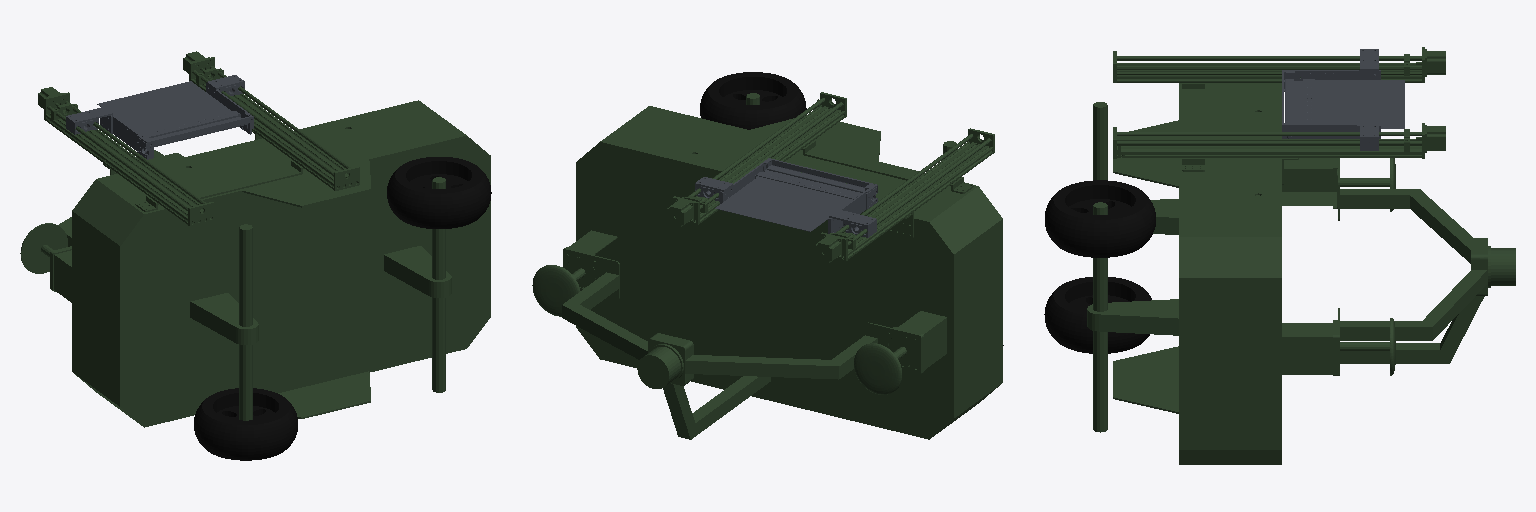
The robot description file, URDF, robot "00_all_20240516.SLDASM":
<?xml version="1.0" encoding="utf-8"?>
<!-- This URDF was automatically created by SolidWorks to URDF Exporter! Originally created by [author] ([email redacted]) 
     Commit Version: 1.6.0-4-g7f85cfe  Build Version: 1.6.7995.38578
     For more information, please see http://wiki.ros.org/sw_urdf_exporter -->
<robot
  name="00_all_20240516.SLDASM">
  <link
    name="base_link">
    <inertial>
      <origin
        xyz="-0.0019706202296848 0.495886382491066 0.00247624627925692"
        rpy="0 0 0" />
      <mass
        value="221.840208254302" />
      <inertia
        ixx="8.92015075465734"
        ixy="-0.00105260873786935"
        ixz="-9.01949150308231E-09"
        iyy="32.1946588327623"
        iyz="-0.000350461242846907"
        izz="26.0486633472126" />
    </inertial>
    <visual>
      <origin
        xyz="0 0 0"
        rpy="0 0 0" />
      <geometry>
        <mesh
          filename="./meshes/base_link.STL" />
      </geometry>
      <material
        name="">
        <color
          rgba="0.23921568627451 0.317647058823529 0.227450980392157 1" />
      </material>
    </visual>
    <collision>
      <origin
        xyz="0 0 0"
        rpy="0 0 0" />
      <geometry>
        <mesh
          filename="./meshes/base_link.STL" />
      </geometry>
    </collision>
  </link>
  <link
    name="front_left_wheel_Link">
    <inertial>
      <origin
        xyz="0 2.54252280290634E-06 2.77555756156289E-17"
        rpy="0 0 0" />
      <mass
        value="4.37453859516945" />
      <inertia
        ixx="0.0315351229841474"
        ixy="1.05126273604273E-09"
        ixz="1.2409798620344E-08"
        iyy="0.0565948463128113"
        iyz="-2.22752276467307E-09"
        izz="0.0315357461064697" />
    </inertial>
    <visual>
      <origin
        xyz="0 0 0"
        rpy="0 0 0" />
      <geometry>
        <mesh
          filename="./meshes/front_left_wheel_Link.STL" />
      </geometry>
      <material
        name="">
        <color
          rgba="0.0941176470588235 0.0941176470588235 0.0941176470588235 1" />
      </material>
    </visual>
    <collision>
      <origin
        xyz="0 0 0"
        rpy="0 0 0" />
      <geometry>
        <mesh
          filename="./meshes/front_left_wheel_Link.STL" />
      </geometry>
    </collision>
  </link>
  <joint
    name="front_left_wheel_joint"
    type="continuous">
    <origin
      xyz="0.3125 0.147 -0.285"
      rpy="-1.5708 0 0" />
    <parent
      link="base_link" />
    <child
      link="front_left_wheel_Link" />
    <axis
      xyz="0 1 0" />
  </joint>
  <link
    name="front_right_wheel_Link">
    <inertial>
      <origin
        xyz="-5.55111512312578E-17 2.54252280296186E-06 -2.77555756156289E-17"
        rpy="0 0 0" />
      <mass
        value="4.37453859516945" />
      <inertia
        ixx="0.0315351229841474"
        ixy="1.05126273584534E-09"
        ixz="1.24097986340553E-08"
        iyy="0.0565948463128113"
        iyz="-2.22752276613522E-09"
        izz="0.0315357461064697" />
    </inertial>
    <visual>
      <origin
        xyz="0 0 0"
        rpy="0 0 0" />
      <geometry>
        <mesh
          filename="./meshes/front_right_wheel_Link.STL" />
      </geometry>
      <material
        name="">
        <color
          rgba="0.0941176470588235 0.0941176470588235 0.0941176470588235 1" />
      </material>
    </visual>
    <collision>
      <origin
        xyz="0 0 0"
        rpy="0 0 0" />
      <geometry>
        <mesh
          filename="./meshes/front_right_wheel_Link.STL" />
      </geometry>
    </collision>
  </link>
  <joint
    name="front_right_wheel_joint"
    type="continuous">
    <origin
      xyz="0.3125 0.147 0.285"
      rpy="1.5708 0 0" />
    <parent
      link="base_link" />
    <child
      link="front_right_wheel_Link" />
    <axis
      xyz="0 1 0" />
  </joint>
  <link
    name="rear_left_wheel_Link">
    <inertial>
      <origin
        xyz="-1.11022302462516E-16 2.54252280290634E-06 5.55111512312578E-17"
        rpy="0 0 0" />
      <mass
        value="4.37453859516945" />
      <inertia
        ixx="0.0315351229841474"
        ixy="1.05126273589486E-09"
        ixz="1.24097986259142E-08"
        iyy="0.0565948463128113"
        iyz="-2.2275227603392E-09"
        izz="0.0315357461064697" />
    </inertial>
    <visual>
      <origin
        xyz="0 0 0"
        rpy="0 0 0" />
      <geometry>
        <mesh
          filename="./meshes/rear_left_wheel_Link.STL" />
      </geometry>
      <material
        name="">
        <color
          rgba="0.0941176470588235 0.0941176470588235 0.0941176470588235 1" />
      </material>
    </visual>
    <collision>
      <origin
        xyz="0 0 0"
        rpy="0 0 0" />
      <geometry>
        <mesh
          filename="./meshes/rear_left_wheel_Link.STL" />
      </geometry>
    </collision>
  </link>
  <joint
    name="rear_left_wheel_joint"
    type="continuous">
    <origin
      xyz="-0.3125 0.147 -0.285"
      rpy="-1.5708 0 0" />
    <parent
      link="base_link" />
    <child
      link="rear_left_wheel_Link" />
    <axis
      xyz="0 1 0" />
  </joint>
  <link
    name="rear_right_wheel_Link">
    <inertial>
      <origin
        xyz="-1.66533453693773E-16 2.54252280296186E-06 5.55111512312578E-17"
        rpy="0 0 0" />
      <mass
        value="4.37453859516945" />
      <inertia
        ixx="0.0315351229841474"
        ixy="1.05126273421006E-09"
        ixz="1.2409798640954E-08"
        iyy="0.0565948463128113"
        iyz="-2.22752276417782E-09"
        izz="0.0315357461064698" />
    </inertial>
    <visual>
      <origin
        xyz="0 0 0"
        rpy="0 0 0" />
      <geometry>
        <mesh
          filename="./meshes/rear_right_wheel_Link.STL" />
      </geometry>
      <material
        name="">
        <color
          rgba="0.0941176470588235 0.0941176470588235 0.0941176470588235 1" />
      </material>
    </visual>
    <collision>
      <origin
        xyz="0 0 0"
        rpy="0 0 0" />
      <geometry>
        <mesh
          filename="./meshes/rear_right_wheel_Link.STL" />
      </geometry>
    </collision>
  </link>
  <joint
    name="rear_right_wheel_joint"
    type="continuous">
    <origin
      xyz="-0.3125 0.147 0.285"
      rpy="1.5708 0 0" />
    <parent
      link="base_link" />
    <child
      link="rear_right_wheel_Link" />
    <axis
      xyz="0 1 0" />
  </joint>
  <link
    name="handle_Link">
    <inertial>
      <origin
        xyz="-0.234704872570278 -0.0584311063078227 0.0186124620902271"
        rpy="0 0 0" />
      <mass
        value="0.475033567461396" />
      <inertia
        ixx="0.00125327572692415"
        ixy="-5.64646242053946E-06"
        ixz="5.56846130077087E-06"
        iyy="0.000635911785583766"
        iyz="-7.09521551255215E-07"
        izz="0.00171855765193228" />
    </inertial>
    <visual>
      <origin
        xyz="0 0 0"
        rpy="0 0 0" />
      <geometry>
        <mesh
          filename="./meshes/handle_Link.STL" />
      </geometry>
      <material
        name="">
        <color
          rgba="0.305882352941176 0.325490196078431 0.352941176470588 1" />
      </material>
    </visual>
    <collision>
      <origin
        xyz="0 0 0"
        rpy="0 0 0" />
      <geometry>
        <mesh
          filename="./meshes/handle_Link.STL" />
      </geometry>
    </collision>
  </link>
  <joint
    name="handle_joint"
    type="prismatic">
    <origin
      xyz="-0.4345 0.853 0.406"
      rpy="-3.1416 0 3.1416" />
    <parent
      link="base_link" />
    <child
      link="handle_Link" />
    <axis
      xyz="0 1 0" />
    <limit
      lower="-0.45"
      upper="0"
      effort="0"
      velocity="0" />
  </joint>
  <link
    name="plane_Link">
    <inertial>
      <origin
        xyz="-0.180014213457999 0.759611110587556 0.38477132691042"
        rpy="0 0 0" />
      <mass
        value="0.470938986775233" />
      <inertia
        ixx="0.00175620253820167"
        ixy="-1.97304911348525E-06"
        ixz="6.98796555667188E-09"
        iyy="0.00360992357319949"
        iyz="-3.77602873266335E-06"
        izz="0.00535854757504972" />
    </inertial>
    <visual>
      <origin
        xyz="0 -0.653 -0.406"
        rpy="0 0 0" />
      <geometry>
        <mesh
          filename="./meshes/plane_Link.STL" />
      </geometry>
      <material
        name="">
        <color
          rgba="0.305882352941176 0.325490196078431 0.352941176470588 1" />
      </material>
    </visual>
    <collision>
      <origin
        xyz="0 -0.653 -0.406"
        rpy="0 0 0" />
      <geometry>
        <mesh
          filename="./meshes/plane_Link.STL" />
      </geometry>
    </collision>
  </link>
  <joint
    name="plane_joint"
    type="revolute">
    <origin
      xyz="-0.4345 -0.2 0"
      rpy="-3.1416 0 3.1416" />
    <parent
      link="handle_Link" />
    <child
      link="plane_Link" />
    <axis
      xyz="1 0 0" />
    <limit
      lower="0"
      upper="2.3"
      effort="0"
      velocity="0" />
  </joint>
</robot>

--- Facts derived from the render (not from the file) ---
3 views of the same robot in one strip: view 1: azimuth 30°, elevation 25°; view 2: azimuth 150°, elevation 25°; view 3: azimuth 270°, elevation 25° (orthographic).
Robot: 00_all_20240516.SLDASM — 7 links, 6 joints (1 revolute, 4 continuous, 1 prismatic); root link base_link; default pose: all joints at 0.
Visible links, largest first — view 1: base_link, front_right_wheel_Link, rear_left_wheel_Link, plane_Link, handle_Link; view 2: base_link, plane_Link, front_right_wheel_Link, handle_Link; view 3: base_link, front_right_wheel_Link, plane_Link, rear_left_wheel_Link, handle_Link.
Link boxes in pixels (<box>): base_link: <box>20,51,490,427</box>; front_right_wheel_Link: <box>387,157,491,228</box>; rear_left_wheel_Link: <box>194,388,297,460</box>; plane_Link: <box>97,81,247,150</box>; handle_Link: <box>66,75,253,159</box>; base_link: <box>532,92,1002,439</box>; plane_Link: <box>715,165,872,231</box>; front_right_wheel_Link: <box>700,72,806,129</box>; handle_Link: <box>695,158,877,237</box>; base_link: <box>1087,47,1515,464</box>; front_right_wheel_Link: <box>1045,180,1155,257</box>; plane_Link: <box>1285,79,1404,138</box>; rear_left_wheel_Link: <box>1044,277,1151,353</box>; handle_Link: <box>1282,49,1380,150</box>.
Size in the robot's own frame: 1.2 by 1.24 by 0.757 metres.
Meshes: 7 distinct files referenced, 5 mesh visuals loaded (5 binary STL); not drawn: 2 (reference not matched to a file when rendering).